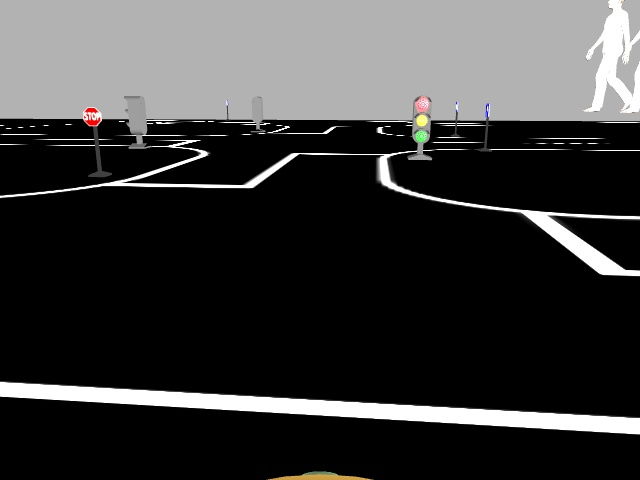Stop: (81, 106, 101, 126)
TrafficLight: (411, 96, 433, 143)
